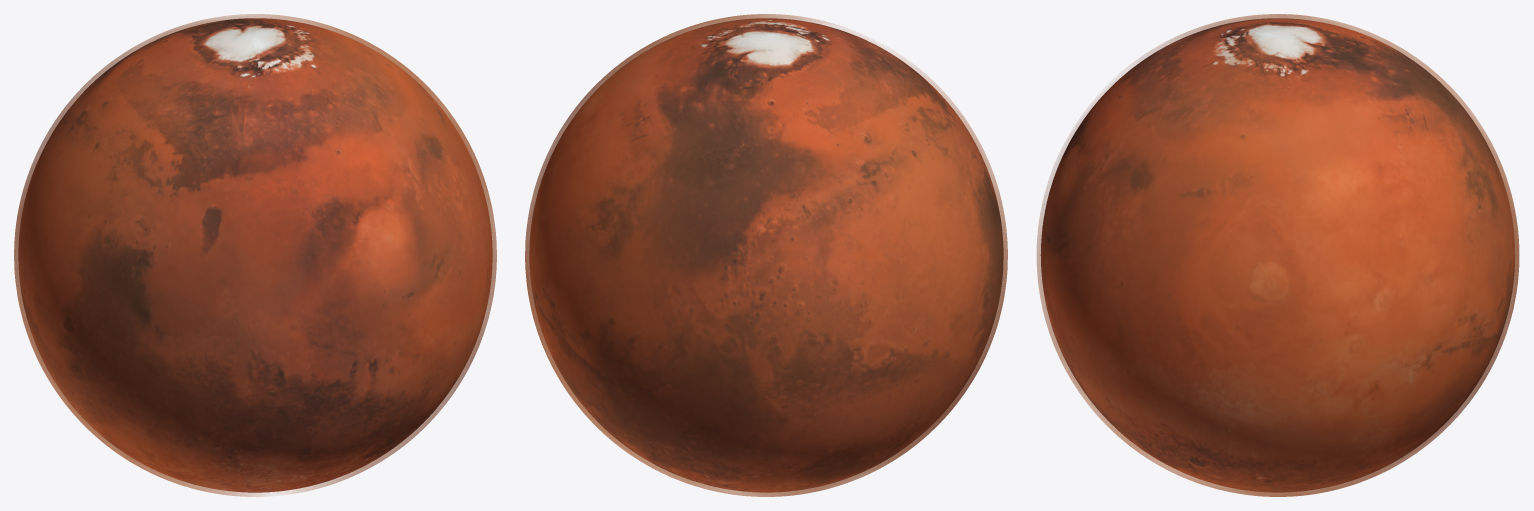
The model's file is mars.glb.
The picture shows the model from 3 angles, left to right: view 1: azimuth 30°, elevation 25°; view 2: azimuth 150°, elevation 25°; view 3: azimuth 270°, elevation 25°; orthographic projection.
Parts seen in each view (by area): view 1: Mars.001, Sphere.012; view 2: Sphere.012, Mars.001; view 3: Sphere.012, Mars.001.
Boxes of the visible parts, x1,y1,x2,y2 form: Mars.001: [18, 18, 492, 492]; Sphere.012: [14, 14, 496, 496]; Sphere.012: [525, 14, 1007, 496]; Mars.001: [529, 18, 1003, 492]; Sphere.012: [1036, 14, 1519, 496]; Mars.001: [1040, 18, 1514, 492].
Bounding box in the file's own units: 3.83 × 3.83 × 3.83.
Materials: 2 (2 with a texture image).
